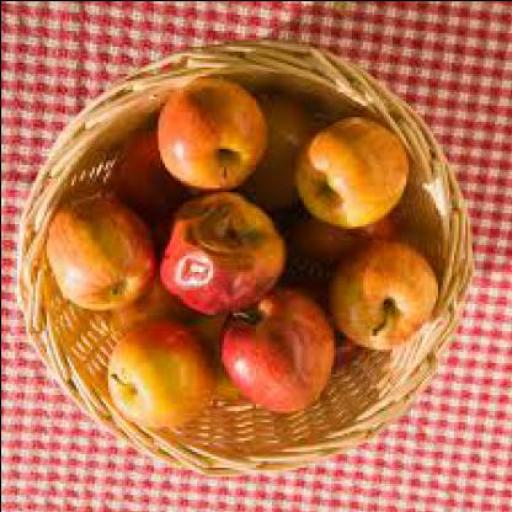biodegradable: (212, 288, 334, 416), (154, 194, 280, 316), (324, 243, 434, 353), (152, 80, 264, 188), (42, 200, 154, 307), (292, 120, 402, 228), (105, 321, 214, 425), (238, 91, 324, 207), (276, 200, 386, 271), (106, 134, 178, 217), (107, 287, 201, 346), (307, 291, 366, 369), (184, 316, 244, 387)
